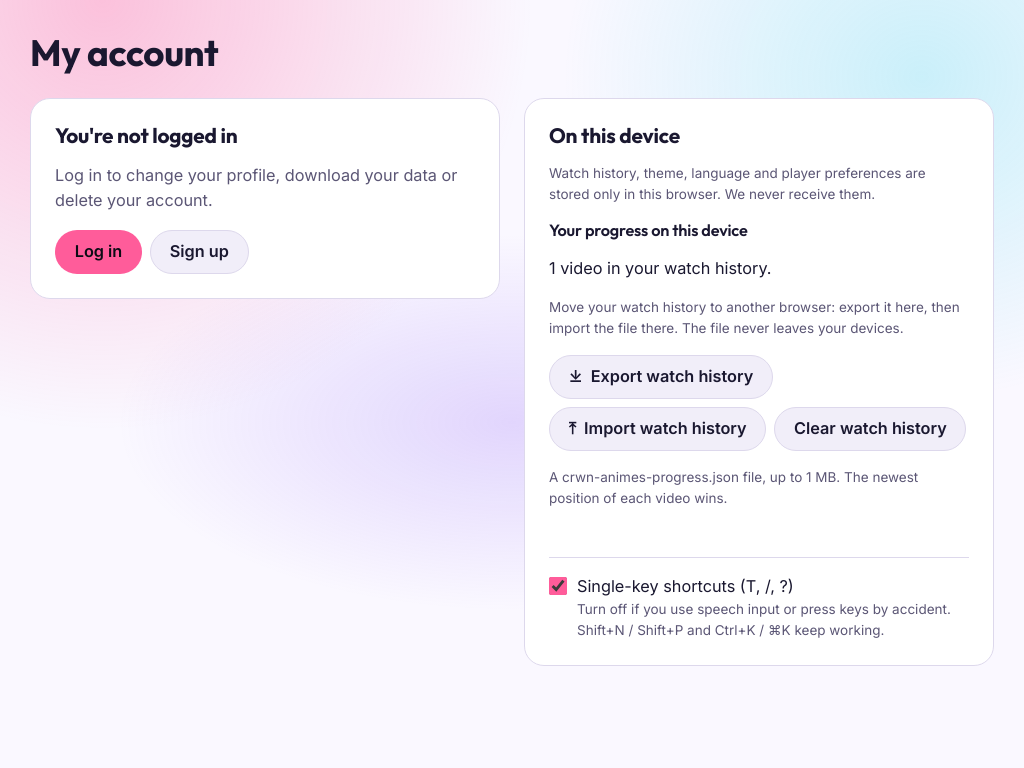
Account — your progress on this device (logged out) › exports crwn-animes-progress.json
Click the button "⤓ Export watch history": coordinates (661, 377) [549,355,773,399]
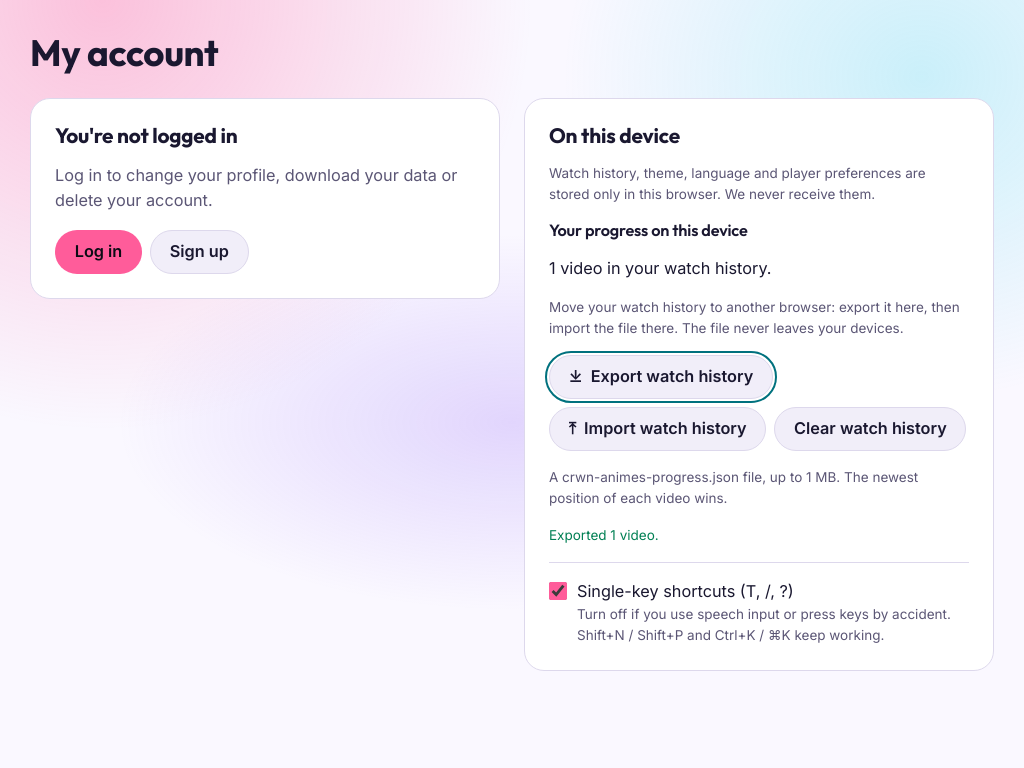
Expected: the message reads "Exported 1 video.", [549,527,659,543]
